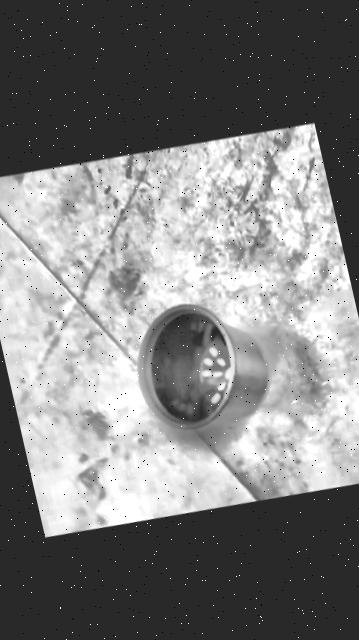pot: (123, 285, 276, 444)
